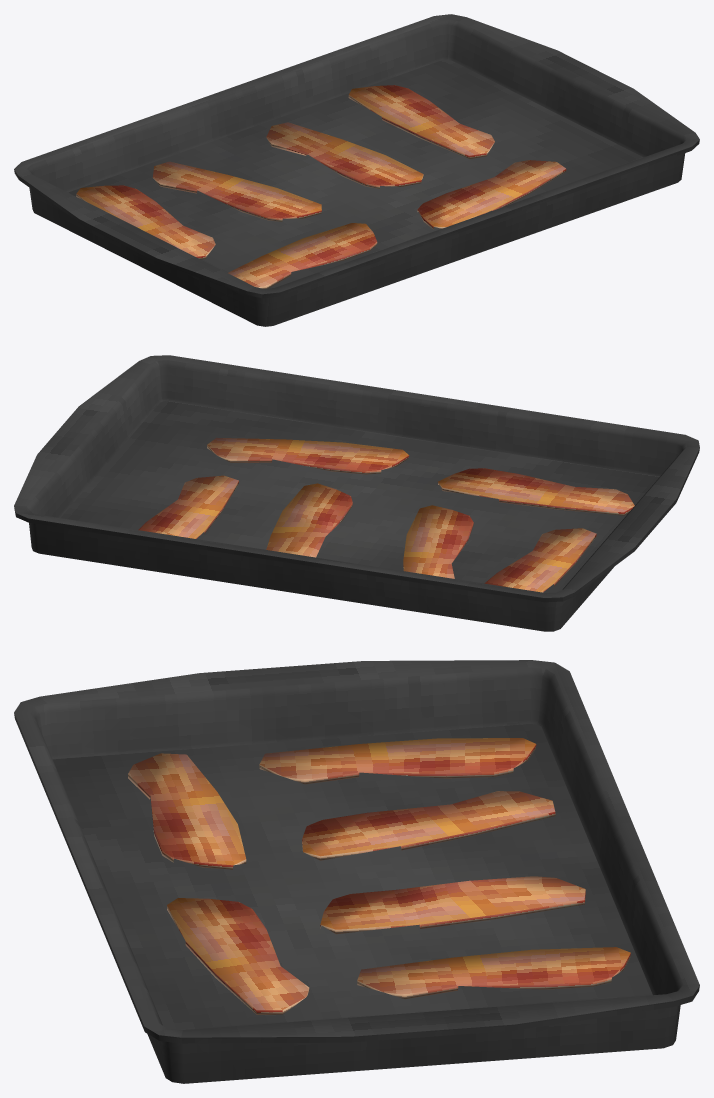
The model's file is BakingTrayBacon.fbx.
The picture shows the model from 3 angles, top to bottom: view 1: azimuth 30°, elevation 25°; view 2: azimuth 150°, elevation 25°; view 3: azimuth 270°, elevation 25°; orthographic projection. The views are drawn at different scales.
Parts seen in each view (by area): view 1: BeefJerky001; view 2: BeefJerky001; view 3: BeefJerky001.
Part boxes in pixels (x1,y1,x2,y2): BeefJerky001: (14, 14, 699, 326); BeefJerky001: (14, 355, 699, 631); BeefJerky001: (14, 660, 699, 1083).
Size of the model in its own units: 105 by 7.31 by 80.46.
